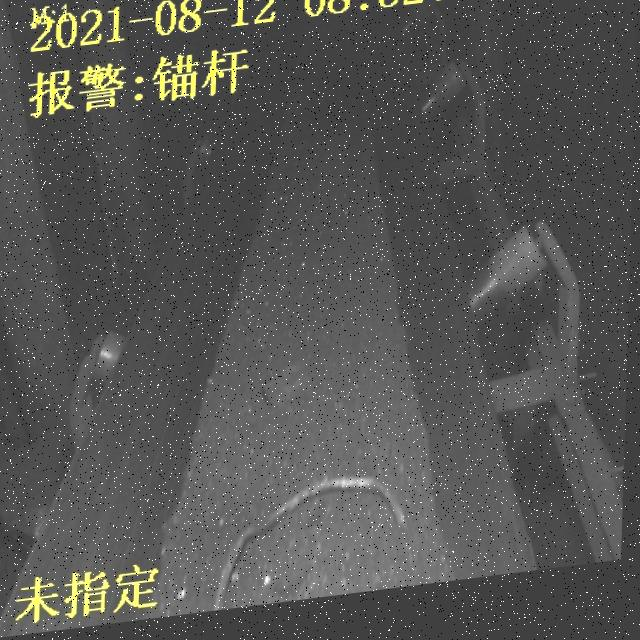bolt: (220, 478, 412, 615)
large_sized_coal: (265, 367, 319, 415)
